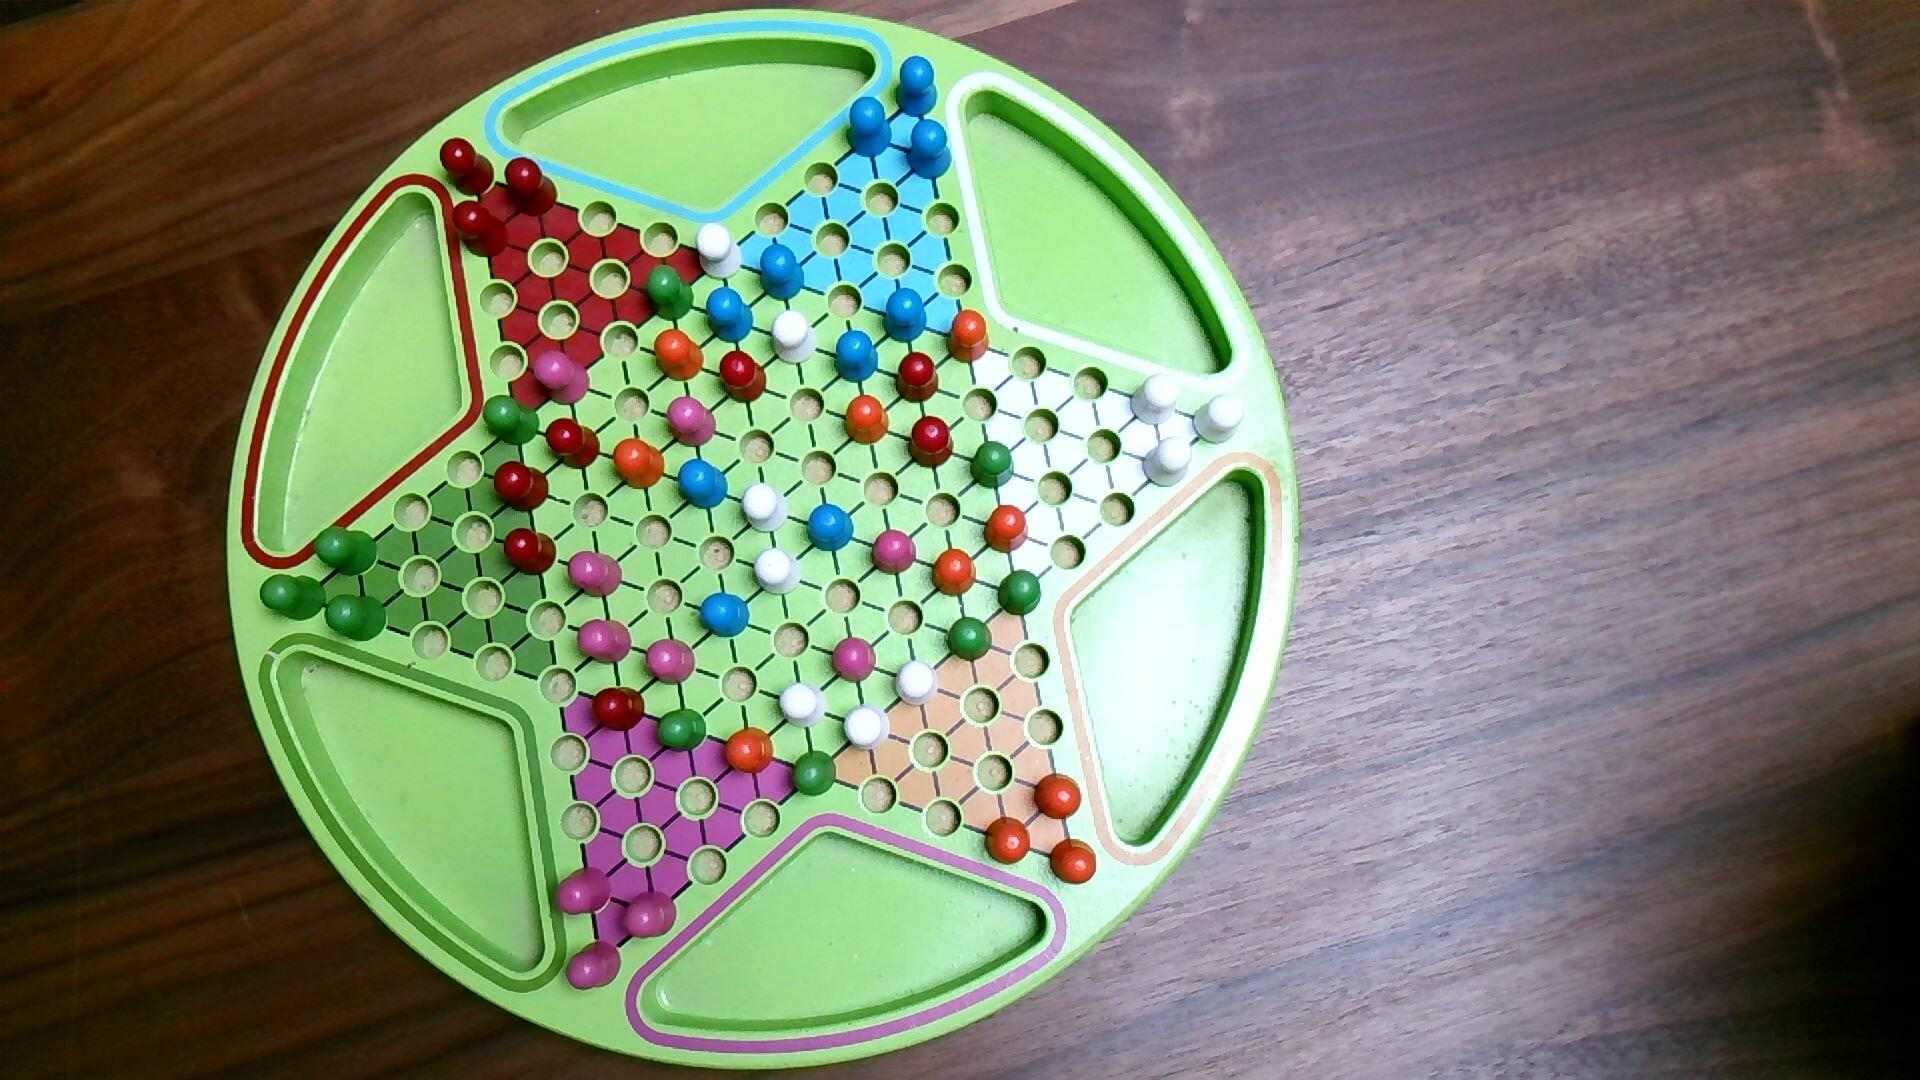B: (891, 53, 942, 123), (843, 95, 894, 160), (905, 117, 953, 182), (676, 455, 731, 513), (760, 240, 807, 305), (705, 285, 756, 345), (881, 286, 930, 345), (699, 591, 753, 641), (833, 328, 880, 386), (806, 502, 856, 555)
G: (313, 525, 381, 580), (324, 592, 392, 645), (258, 574, 328, 624), (481, 392, 542, 448), (644, 262, 696, 324), (789, 748, 840, 800), (655, 705, 709, 756), (968, 439, 1017, 492), (996, 567, 1044, 618), (945, 615, 994, 665)
O: (612, 436, 669, 492), (653, 327, 707, 384), (843, 392, 891, 448), (945, 307, 992, 367), (723, 725, 775, 777), (1033, 771, 1085, 823), (981, 502, 1031, 556), (1048, 836, 1100, 887), (930, 546, 978, 600), (982, 815, 1033, 866)
R: (451, 199, 510, 260), (504, 156, 560, 219), (440, 137, 497, 199), (492, 459, 553, 516), (545, 417, 603, 472), (502, 526, 559, 579), (589, 684, 647, 736), (717, 349, 769, 407), (907, 414, 956, 471), (895, 349, 942, 406)
R2: (531, 349, 593, 407), (564, 939, 624, 993), (554, 865, 615, 918), (621, 889, 680, 942), (568, 550, 625, 603), (575, 617, 633, 667), (666, 396, 717, 451), (644, 637, 698, 688), (829, 636, 878, 687), (872, 527, 918, 578)
W: (1191, 390, 1247, 448), (1141, 433, 1195, 491), (1129, 371, 1182, 429), (696, 220, 745, 282), (770, 309, 820, 367), (777, 678, 829, 732), (752, 545, 804, 599), (741, 480, 790, 535), (843, 702, 893, 754), (891, 657, 942, 709)
